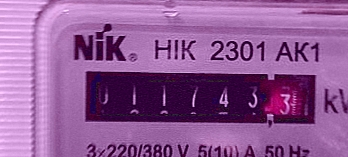0: (95, 79, 109, 107)
1: (156, 79, 168, 107), (127, 79, 137, 106)
3: (245, 82, 259, 109), (276, 91, 290, 116)
4: (215, 82, 229, 109)
7: (185, 79, 200, 107)
screen: (73, 60, 326, 134)
